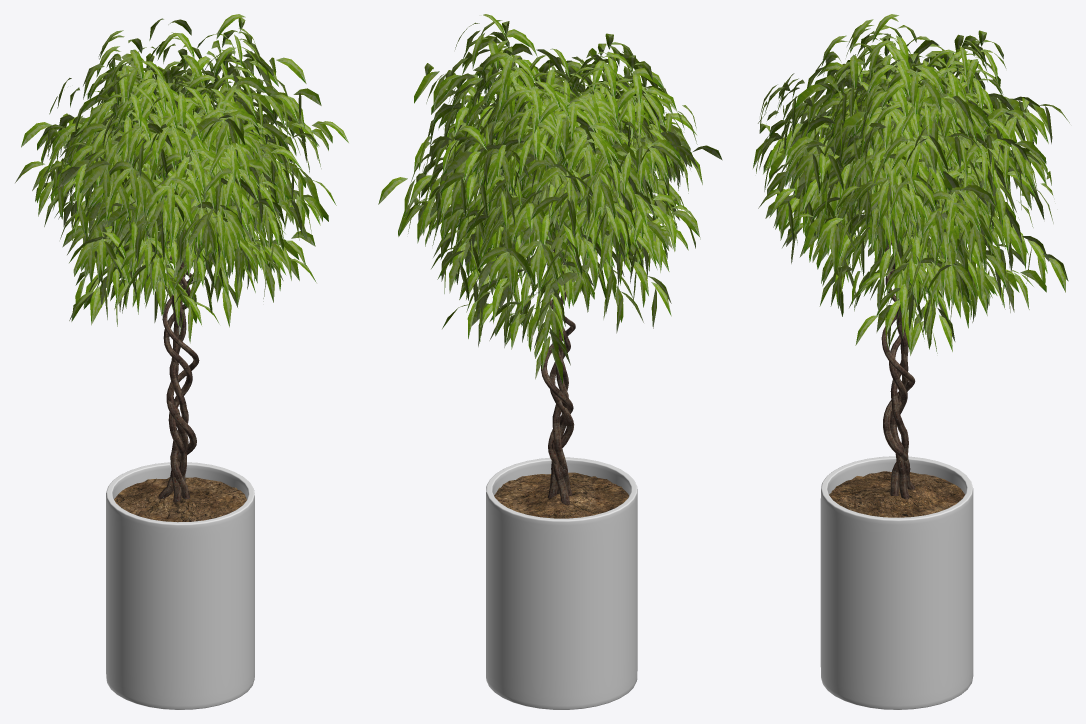
The model's file is plant_16.glb.
The picture shows the model from 3 angles, left to right: view 1: azimuth 30°, elevation 25°; view 2: azimuth 150°, elevation 25°; view 3: azimuth 270°, elevation 25°; orthographic projection. The views are drawn at different scales.
Visible parts, largest first — view 1: Plants_VOL02_03; view 2: Plants_VOL02_03; view 3: Plants_VOL02_03.
Boxes of the visible parts, box(x1,y1,x2,y2) form: Plants_VOL02_03: box(15, 14, 348, 709); Plants_VOL02_03: box(378, 14, 722, 709); Plants_VOL02_03: box(753, 14, 1069, 709).
Bounding box in the file's own units: 0.6569 × 1.51 × 0.6682.
4 materials, 3 textured.
